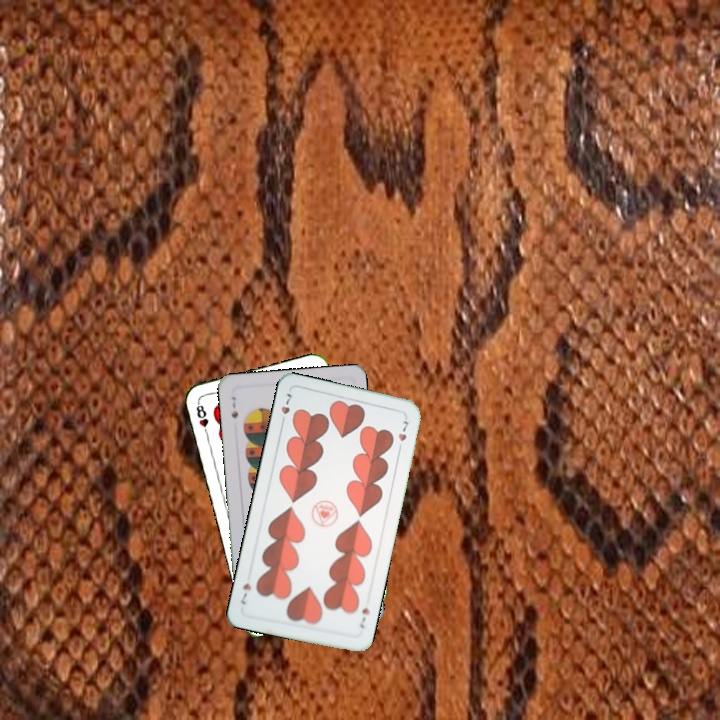H7: (277, 389, 295, 428), (355, 604, 372, 631)
H8: (192, 398, 211, 438)
S7: (227, 393, 240, 421)
